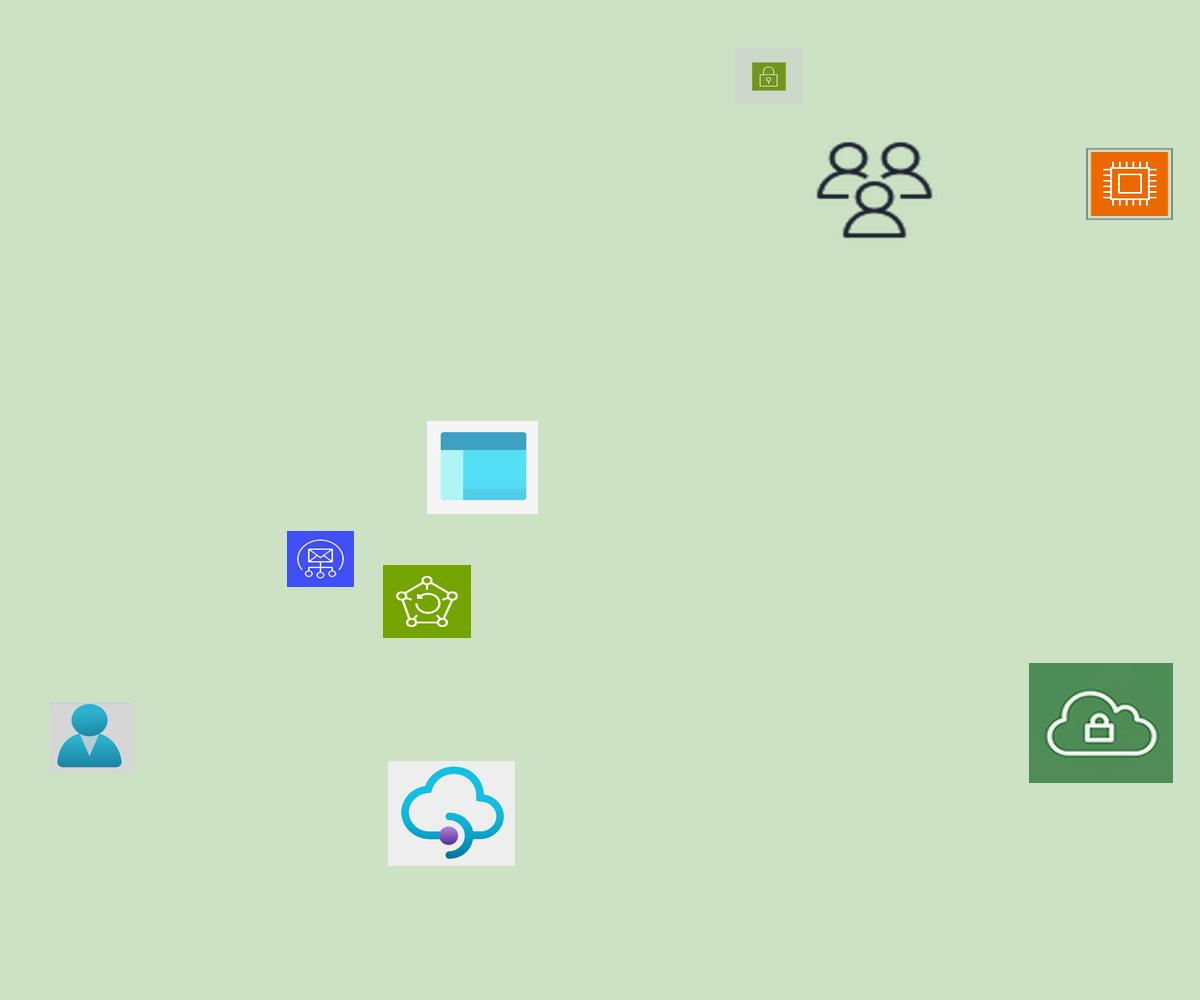AWS-Backup: (383, 565, 471, 638)
AWS-Category_Compute: (1086, 148, 1173, 220)
AWS-Private_vpc: (1029, 663, 1173, 783)
AWS-Public-subnet: (735, 48, 803, 105)
AWS-Res_Users: (812, 138, 937, 242)
AWS-Simple-Email-Service: (287, 531, 354, 587)
Azure_api_gateway: (388, 761, 515, 866)
Azure_management-portal: (427, 421, 538, 514)
Azure_users: (50, 703, 132, 772)
